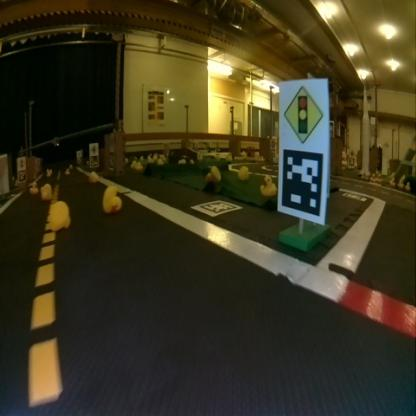Duckie: (48, 202, 70, 230), (102, 185, 121, 213), (260, 174, 276, 197), (205, 166, 220, 182), (40, 184, 52, 200), (28, 182, 38, 193), (89, 171, 98, 182)
QR code: (280, 149, 321, 216), (192, 200, 241, 214), (342, 190, 365, 203), (90, 155, 98, 166)
Signal sign: (283, 88, 322, 142)
